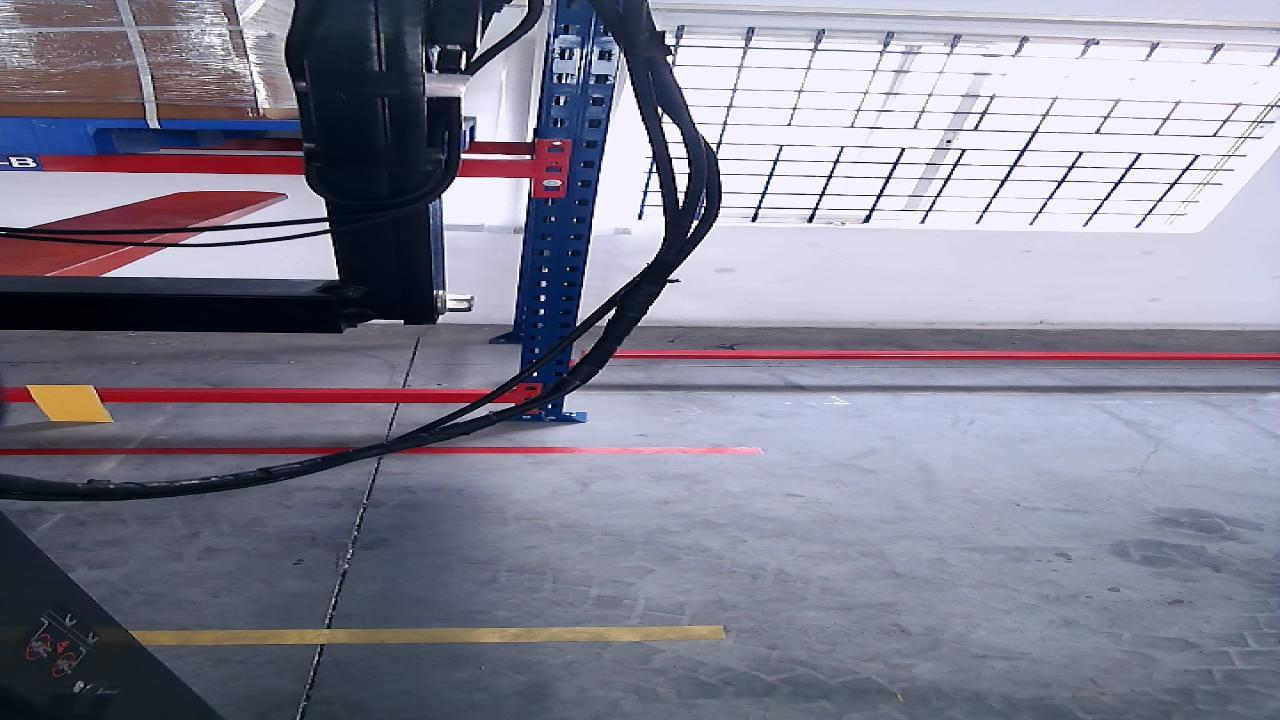h_rack: (0, 155, 525, 178), (0, 393, 518, 403)
orange_strip: (26, 385, 113, 423)
red_line: (2, 447, 762, 455)
yellow_line: (135, 629, 730, 646)
